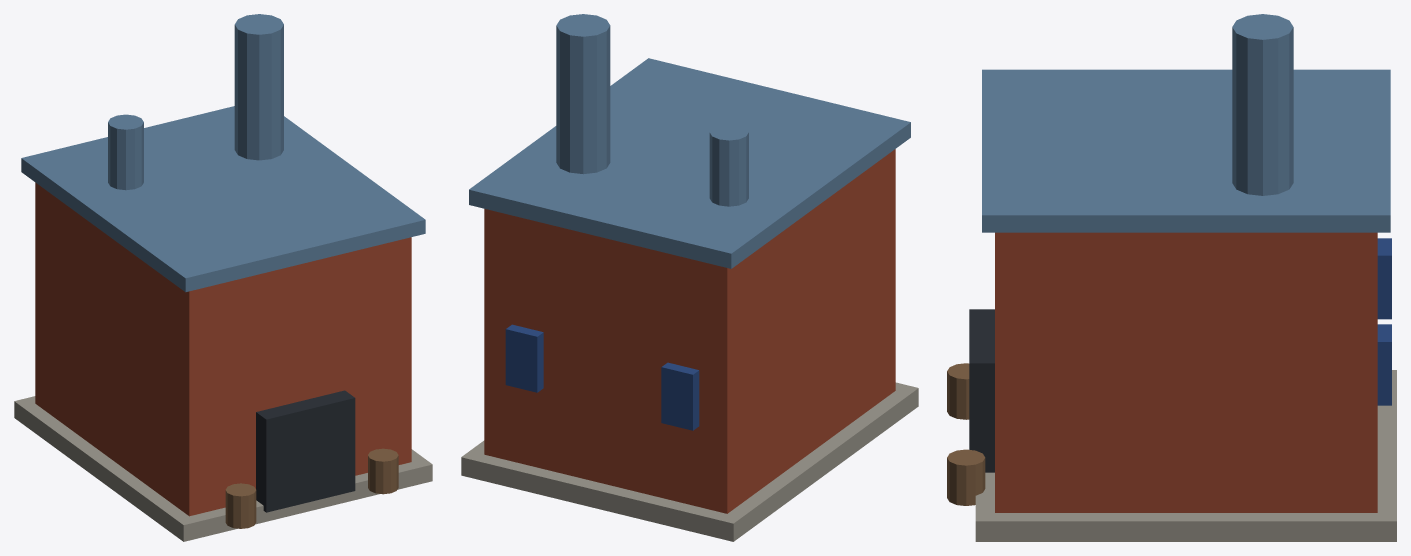
The model's file is bld_industrial_a05.glb.
The picture shows the model from 3 angles, left to right: view 1: azimuth 30°, elevation 25°; view 2: azimuth 150°, elevation 25°; view 3: azimuth 270°, elevation 25°; orthographic projection. The views are drawn at different scales.
Visible parts, largest first — view 1: body; view 2: body; view 3: body.
Part boxes in pixels (x1,y1,x2,y2): body: (14,14,432,541); body: (461,14,918,541); body: (947,14,1396,541).
Size of what is drawn, in the model's own units: 5.6 by 8.3 by 7.05.
